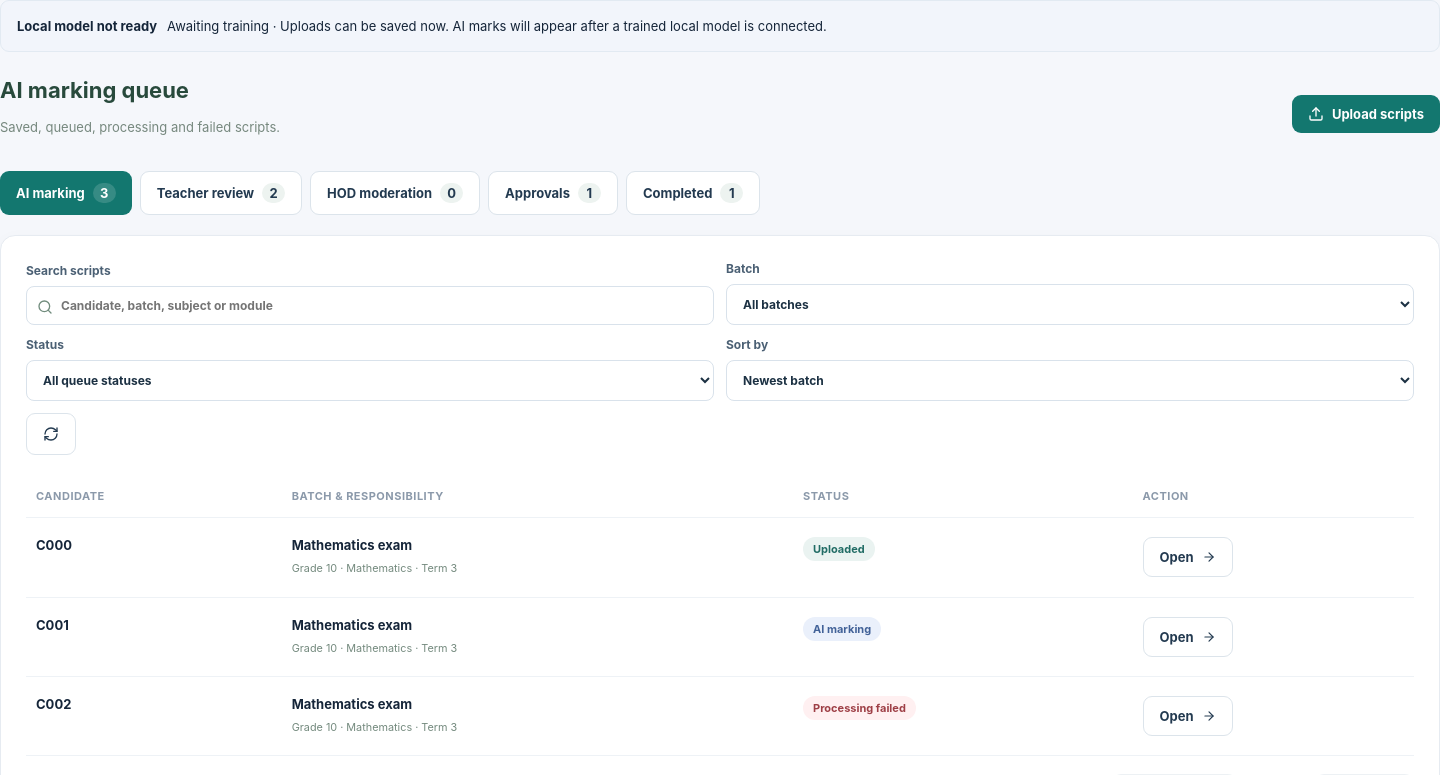
Role dashboards and dedicated queues › searches and filters marking scripts without mixing approved work into the queue
Select "Processing failed" in the dropdown labelled "Status". click: (370,381)
box: [26, 360, 714, 401]
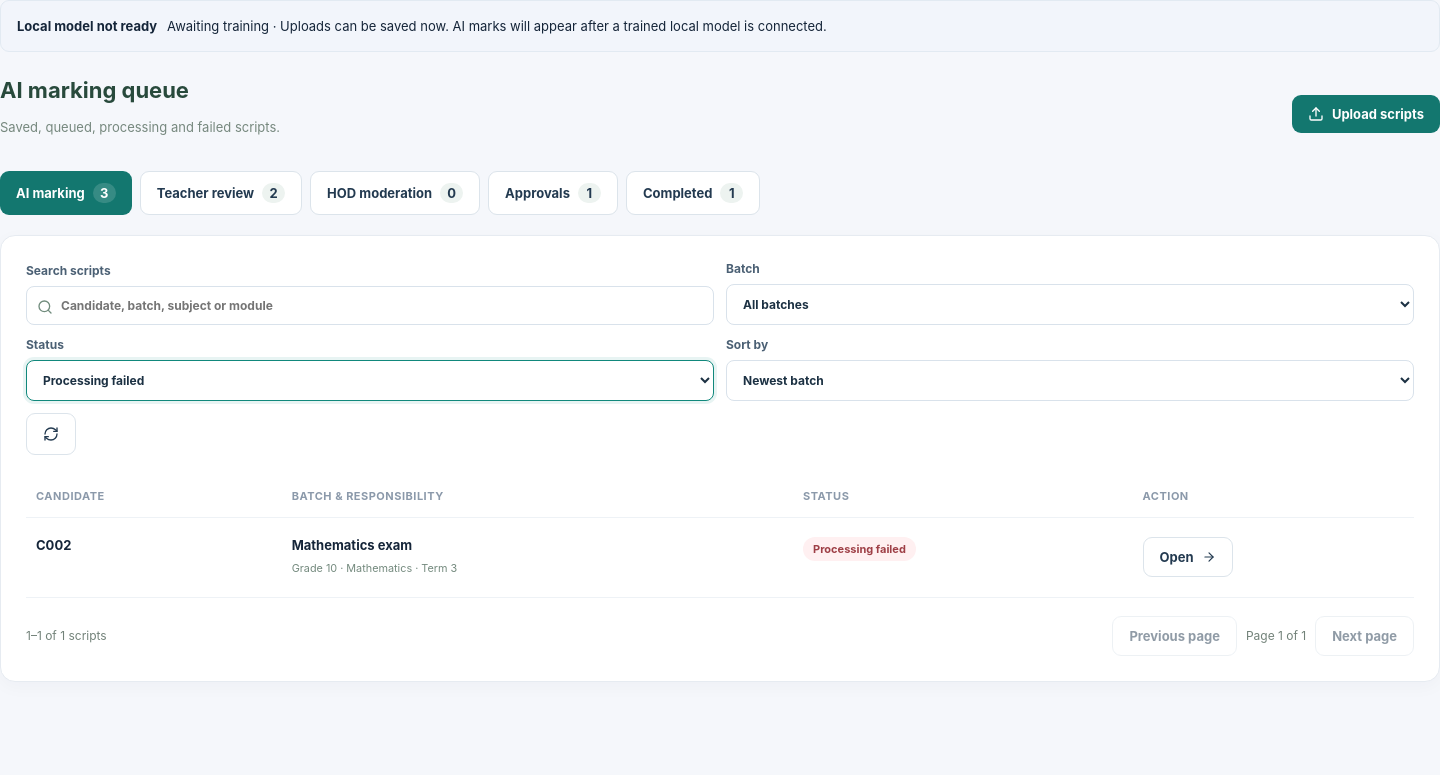
Expected: the text "C002" is shown, [36, 537, 71, 553]
Result: the text "C000" is gone
Type "not-a-candidate" into the search field labelled "Search scripts". click: (370,306)
box: [26, 286, 714, 325]
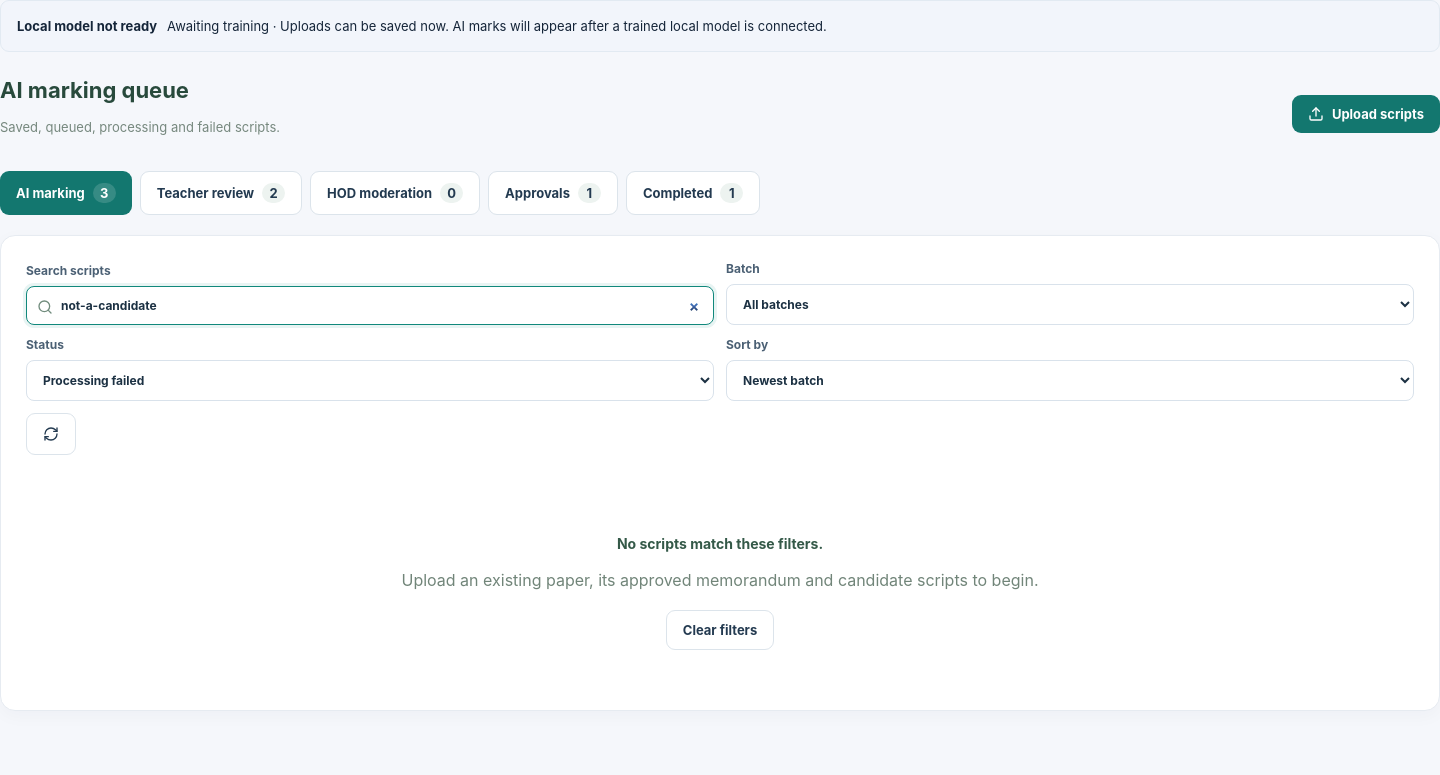
Result: the heading "No scripts match these filters." is shown at [617, 535, 823, 552]
Click the button "Clear filters". click: (720,630)
box: [666, 610, 774, 650]
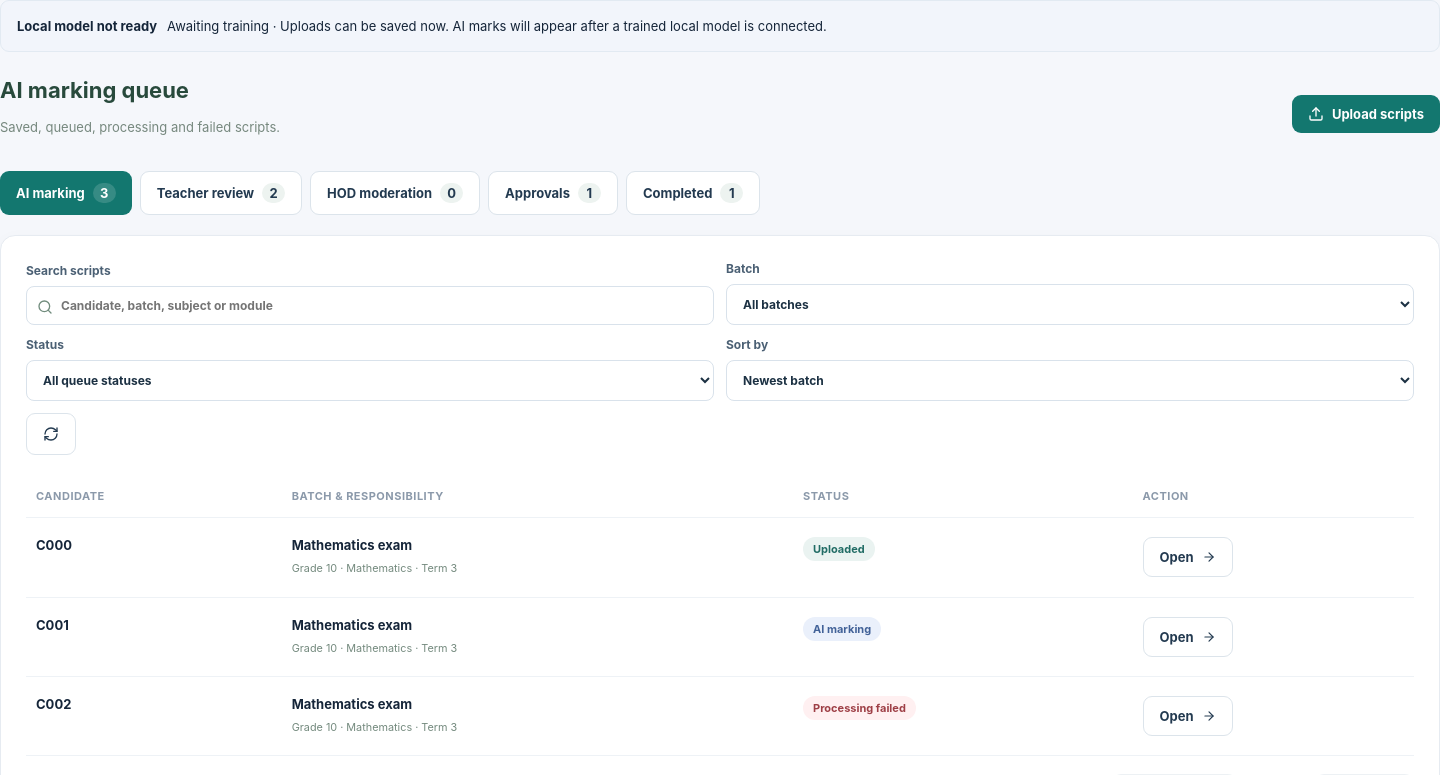
Result: the table is shown at [26, 475, 1414, 756]
